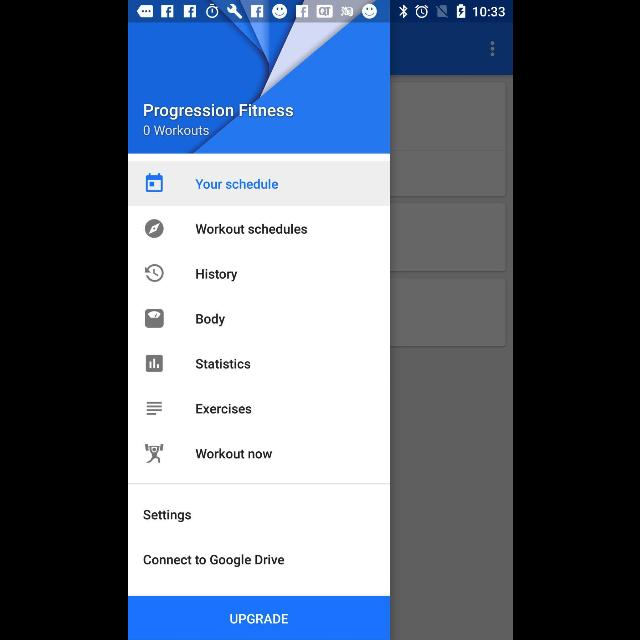icon: (144, 220, 164, 238), (144, 264, 162, 282), (146, 174, 162, 192), (146, 356, 162, 372), (146, 401, 162, 415), (490, 41, 494, 57)
image: (144, 443, 164, 462), (144, 310, 164, 328)
panel: (128, 22, 388, 640)
text: (143, 104, 293, 120), (142, 554, 284, 568), (195, 223, 307, 234), (195, 178, 278, 190), (194, 448, 272, 459), (143, 124, 209, 136), (142, 510, 190, 522), (196, 268, 237, 282), (194, 359, 250, 369), (195, 404, 251, 414), (196, 314, 224, 326)
textbutton: (128, 596, 388, 640)
uppertaskbar: (128, 1, 512, 23)
